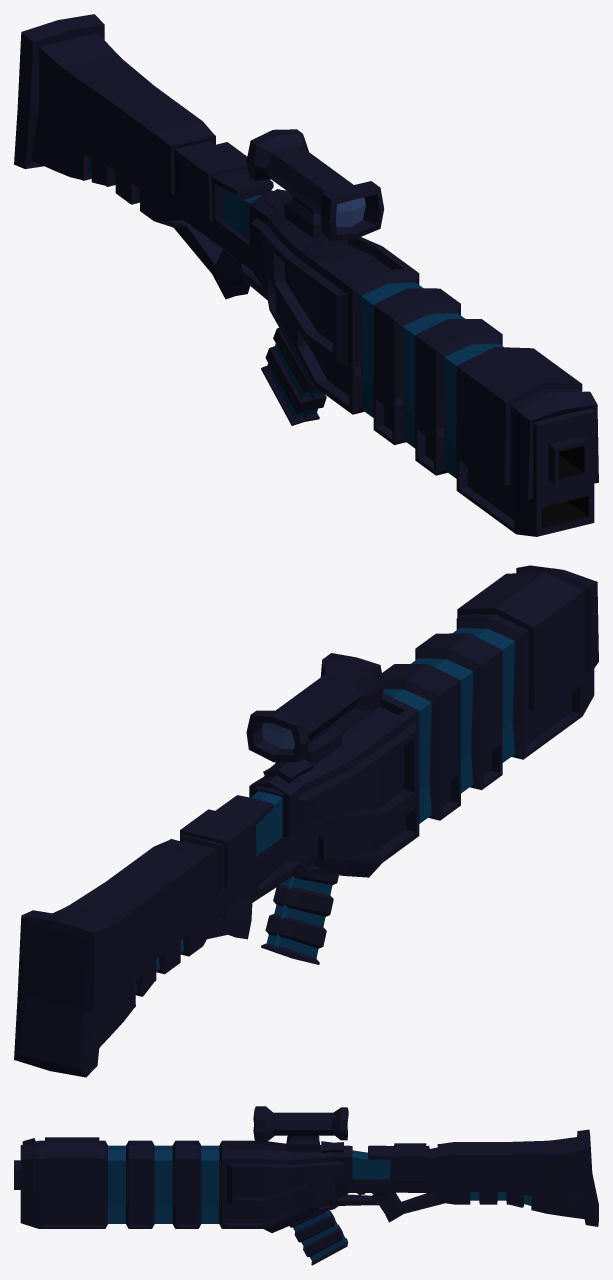
The model's file is Arma Laser Clones (2) (1) (1).fbx.
3 renders of one model, top to bottom at view 1: azimuth 30°, elevation 25°; view 2: azimuth 150°, elevation 25°; view 3: azimuth 270°, elevation 25°, orthographic. The views are drawn at different scales.
Visible parts, largest first — view 1: Cube; view 2: Cube; view 3: Cube.
Boxes of the visible parts, x1=… form: Cube: x1=14, y1=14, x2=598, y2=536; Cube: x1=14, y1=565, x2=598, y2=1077; Cube: x1=14, y1=1106, x2=598, y2=1265.
Size of the model in its own units: 101 by 317 by 1113.
Materials: 1 (1 with a texture image).
